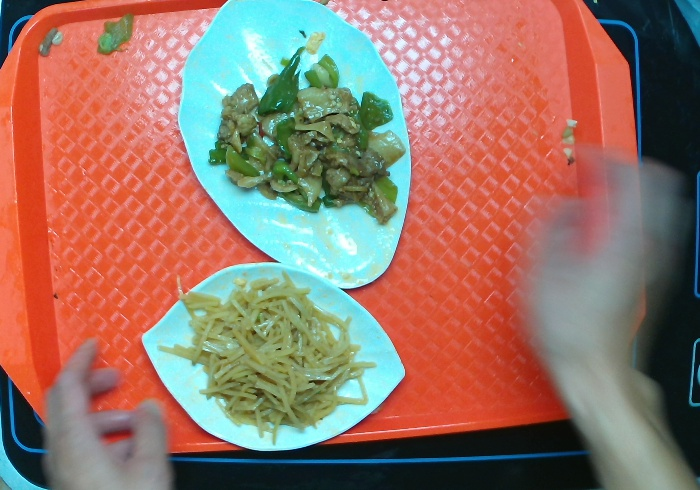RJxy-Bai_Ye_Pan: (176, 1, 413, 290)
RJxy-Da_Du_Pan: (139, 260, 407, 453)
